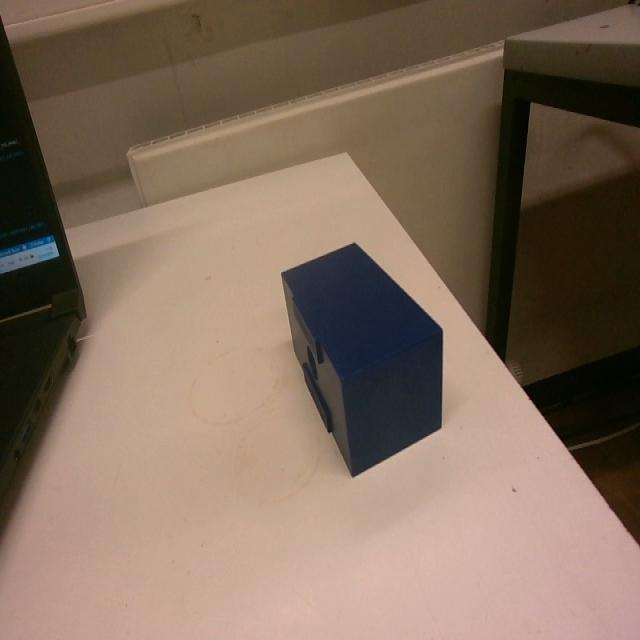Blue Cuboid: (278, 238, 445, 478)
